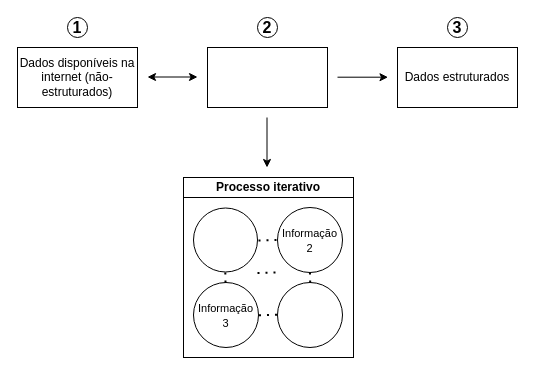
Some shapes in this 535 by 375 pixel diagram are drawn without their labels. Each missing label, with the centre of its shape:
Algoritmo coletor das informações dispersas: (x=267, y=77)
Informação 1: (x=225, y=239)
Informação n: (x=309, y=315)
